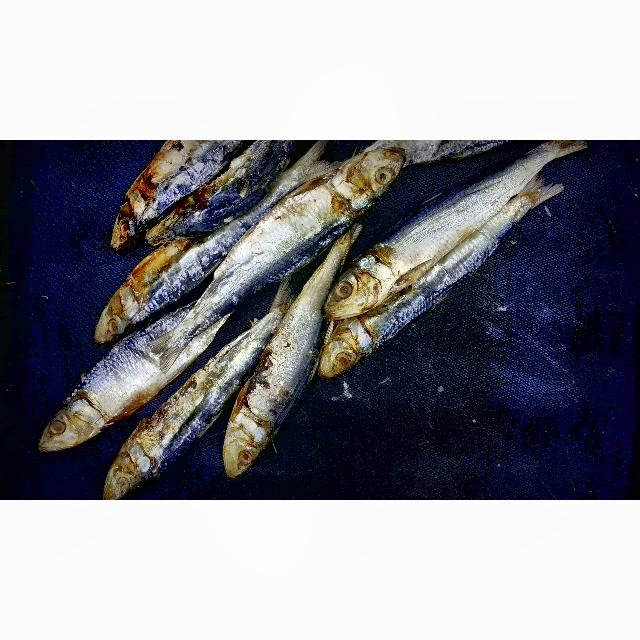Grade_B_Body: (131, 363, 243, 472), (154, 196, 263, 307), (392, 177, 509, 277), (388, 234, 486, 333), (234, 190, 335, 284), (96, 323, 202, 409), (243, 307, 324, 408)
Grade_B_Head: (27, 386, 113, 472), (344, 142, 416, 210), (83, 278, 145, 343), (221, 415, 275, 489), (97, 193, 158, 250), (326, 267, 387, 320), (86, 450, 149, 500), (327, 324, 374, 383)
Grade_B_Tail: (472, 178, 568, 246), (252, 152, 324, 220), (499, 147, 583, 204)
